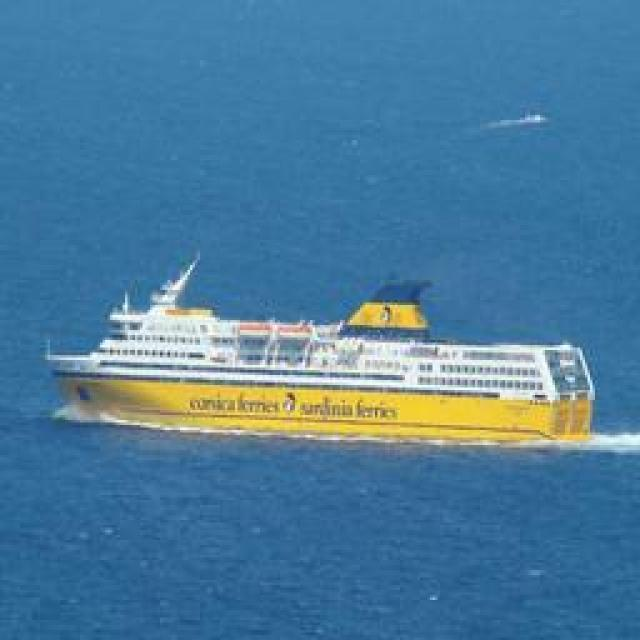ship2: (45, 256, 596, 448)
